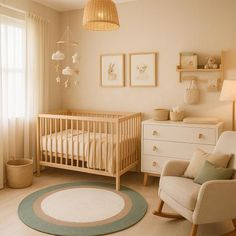crib: (36, 109, 140, 191)
